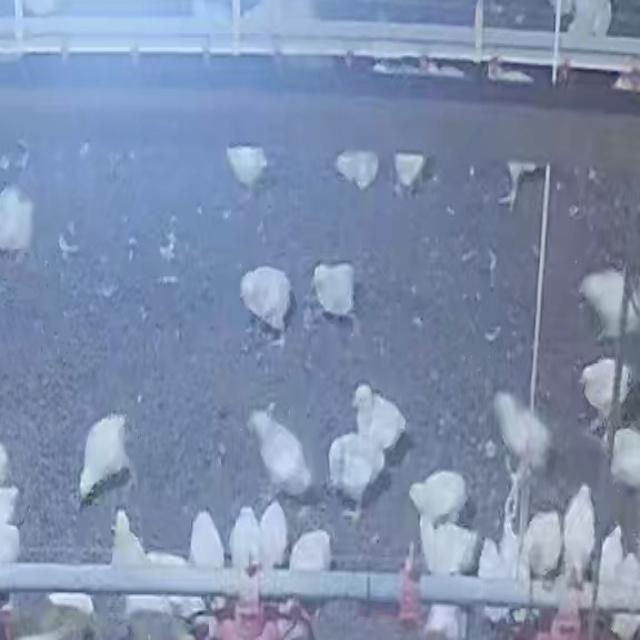chicken: (246, 406, 314, 500), (79, 412, 135, 509), (493, 391, 555, 475), (326, 431, 386, 512), (579, 268, 639, 344), (352, 382, 409, 456), (580, 358, 636, 428), (238, 266, 292, 334), (517, 508, 564, 584), (561, 484, 597, 583), (419, 518, 480, 576), (408, 470, 468, 528), (309, 262, 359, 317), (0, 184, 35, 258), (228, 504, 263, 575), (189, 509, 227, 570), (258, 498, 288, 569), (608, 427, 640, 489), (494, 508, 520, 572), (595, 527, 622, 583)
